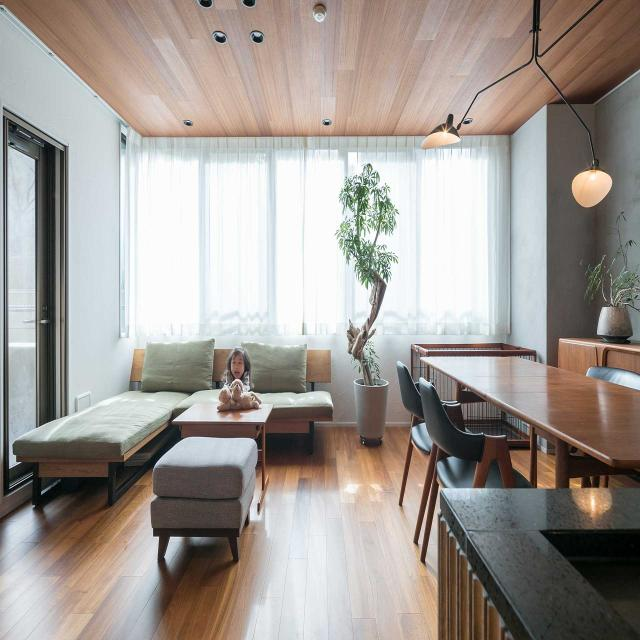vintage chair: (414, 375, 529, 588)
vintage desk: (423, 350, 640, 471)
